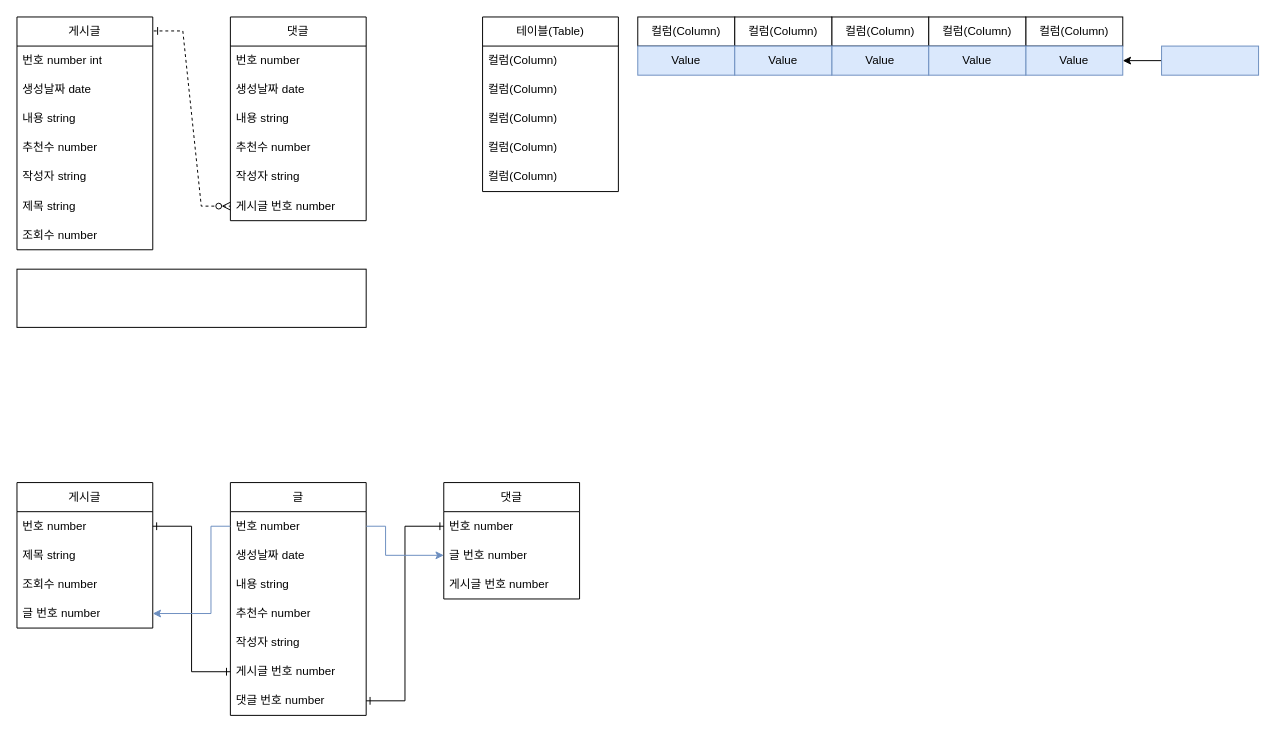
This 1276x732 diagram has some shape labels left out. The shapes that lost their labels are listed below. From the top down, each one's centre as x and y in pixels, then its label:
At (x=1210, y=60): "Row".
At (x=191, y=297): "1 : N".
